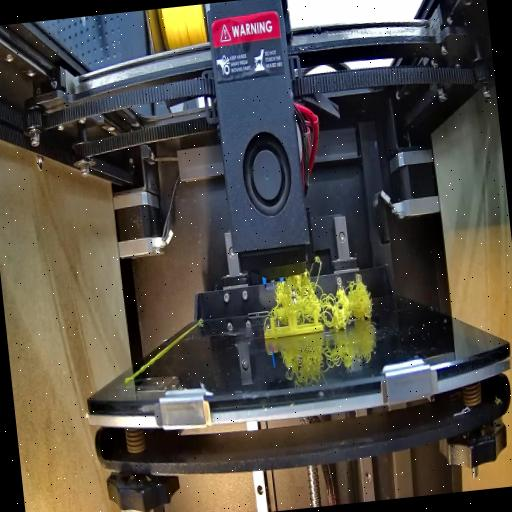spaghetti: (268, 252, 370, 328)
